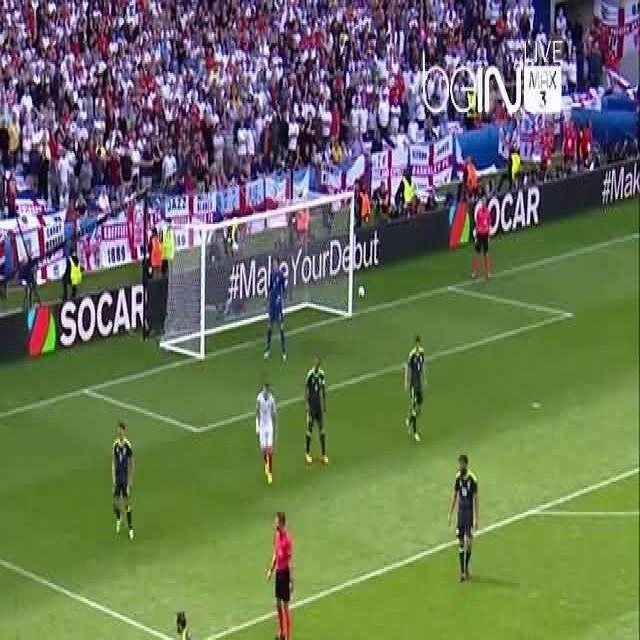ball: (358, 286, 365, 298)
player-white: (447, 454, 479, 581), (267, 510, 293, 640), (110, 422, 134, 540), (303, 358, 329, 464), (264, 256, 288, 362), (405, 338, 425, 442), (256, 384, 276, 484), (472, 200, 490, 278), (171, 609, 201, 640)
